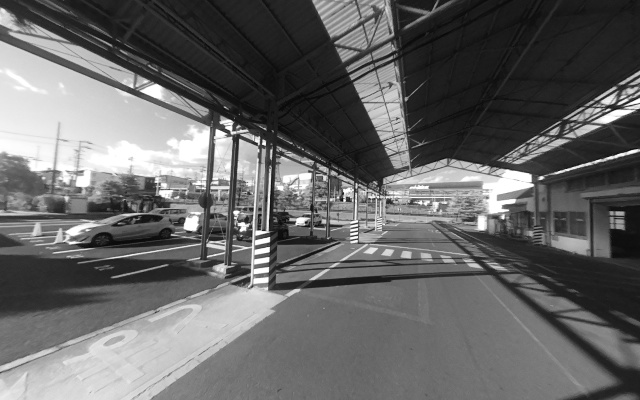bollard: (252, 230, 275, 292), (348, 219, 359, 245), (532, 223, 543, 244), (374, 214, 384, 233)
